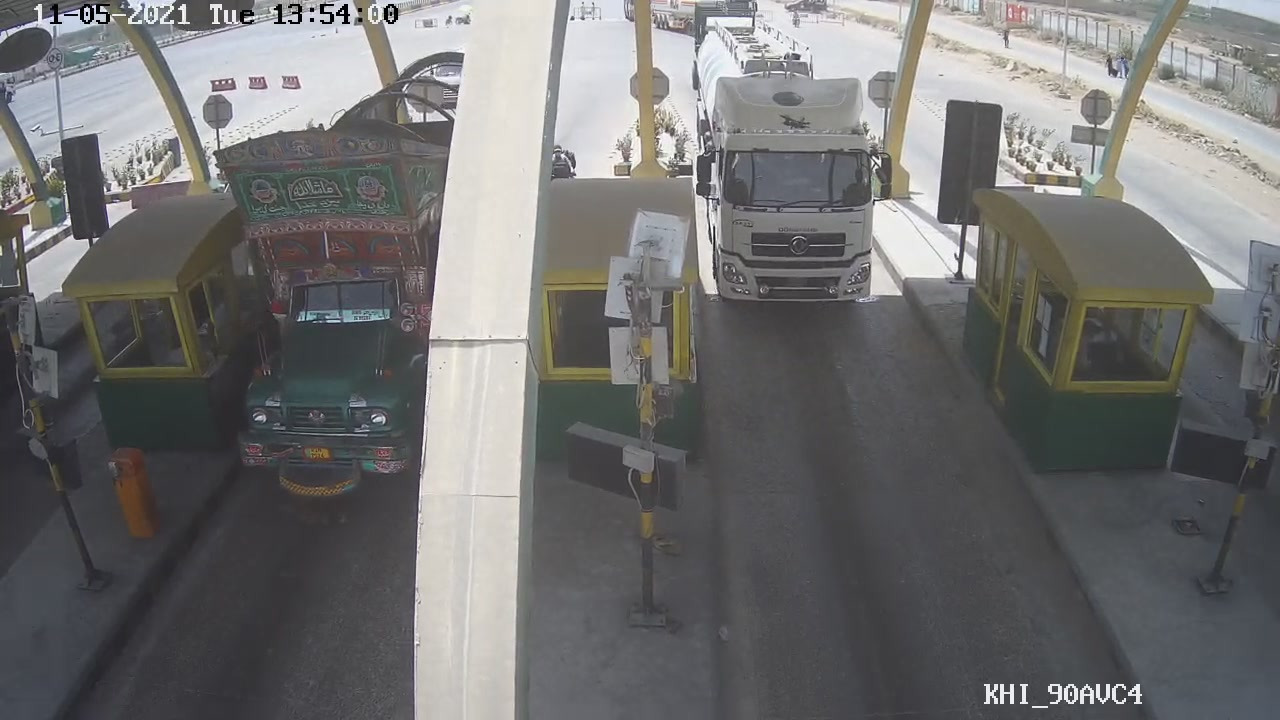F6: (682, 20, 904, 323)
